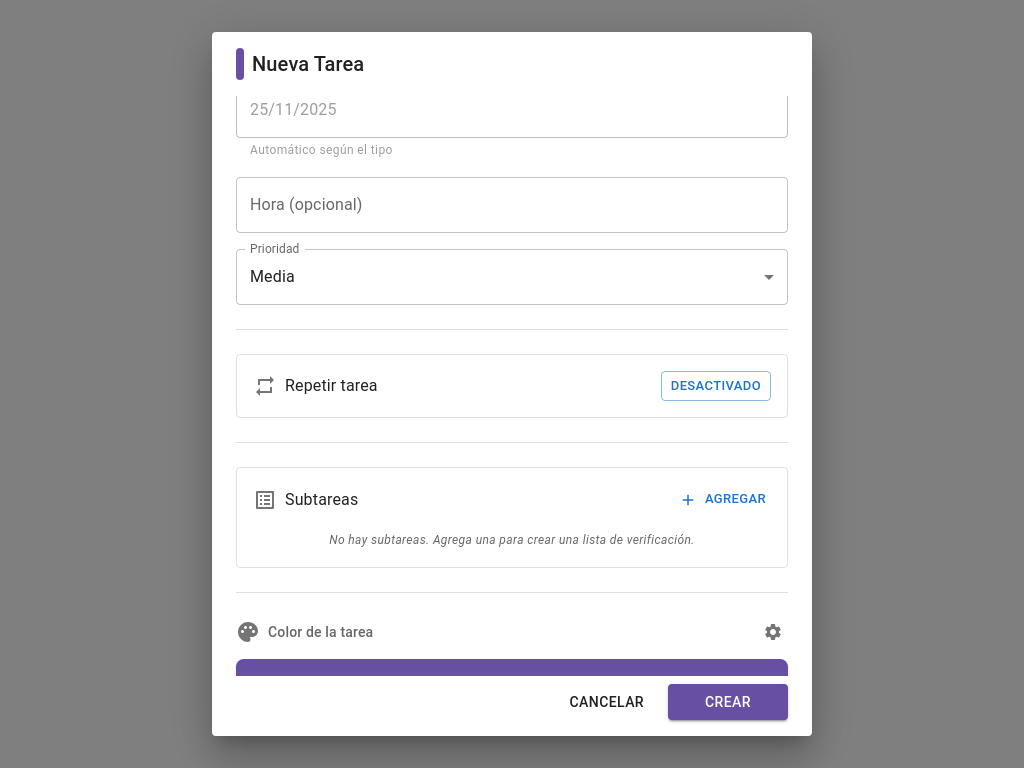
Scenario: TaskForm Component › toggles recurrence options
(page scrolled)
Click the button "Desactivado". click: [716, 386]
box: [661,370,771,401]
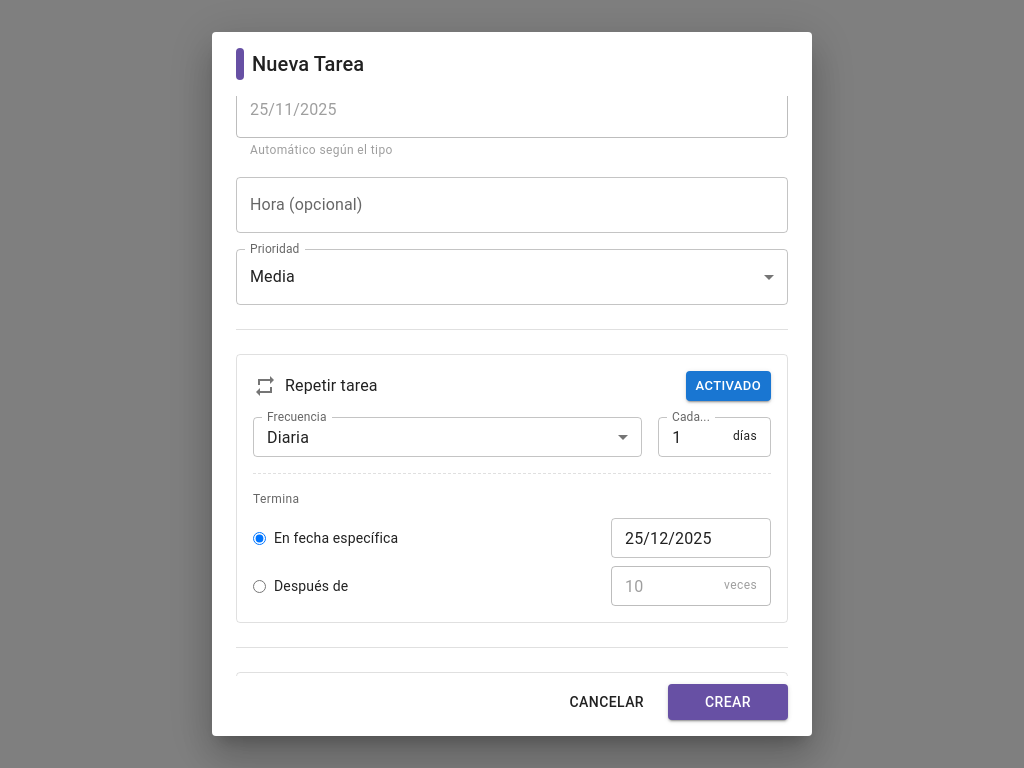
Check: the button "Activado" is shown, box [686,370,771,401]
Check: the text "Frecuencia" is shown, box [267,408,326,426]
